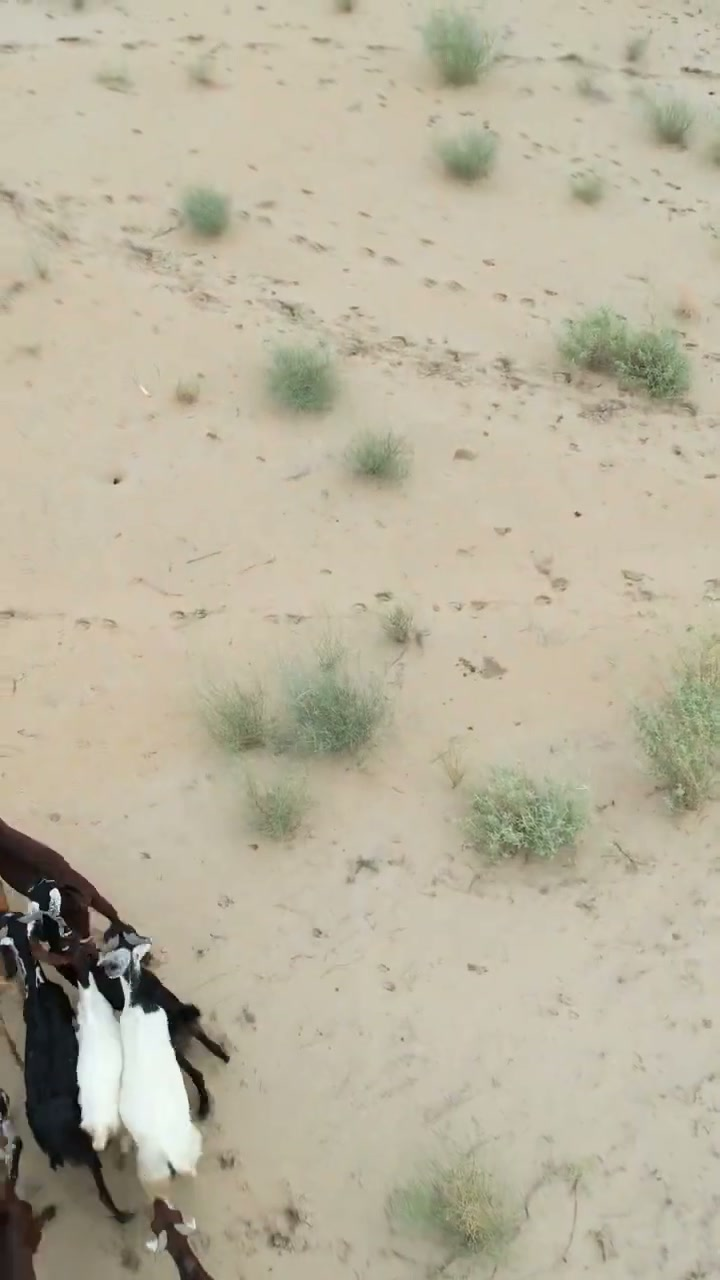animal_footprint: (103, 953, 336, 1271)
